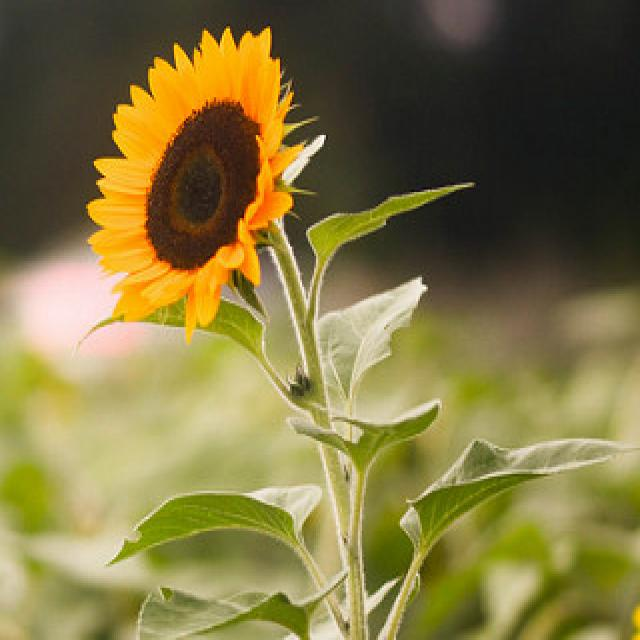sunflower: (89, 28, 301, 340)
